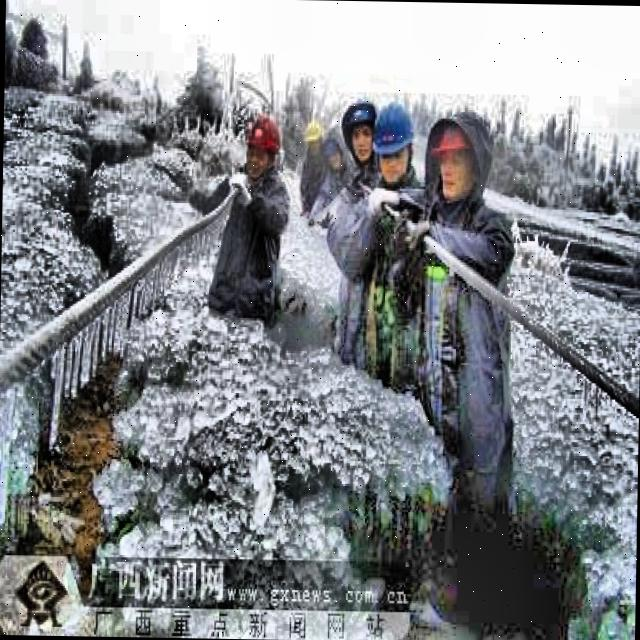helmet: (426, 114, 481, 201), (372, 96, 418, 186), (341, 94, 382, 164), (244, 110, 282, 180), (302, 119, 325, 158)
